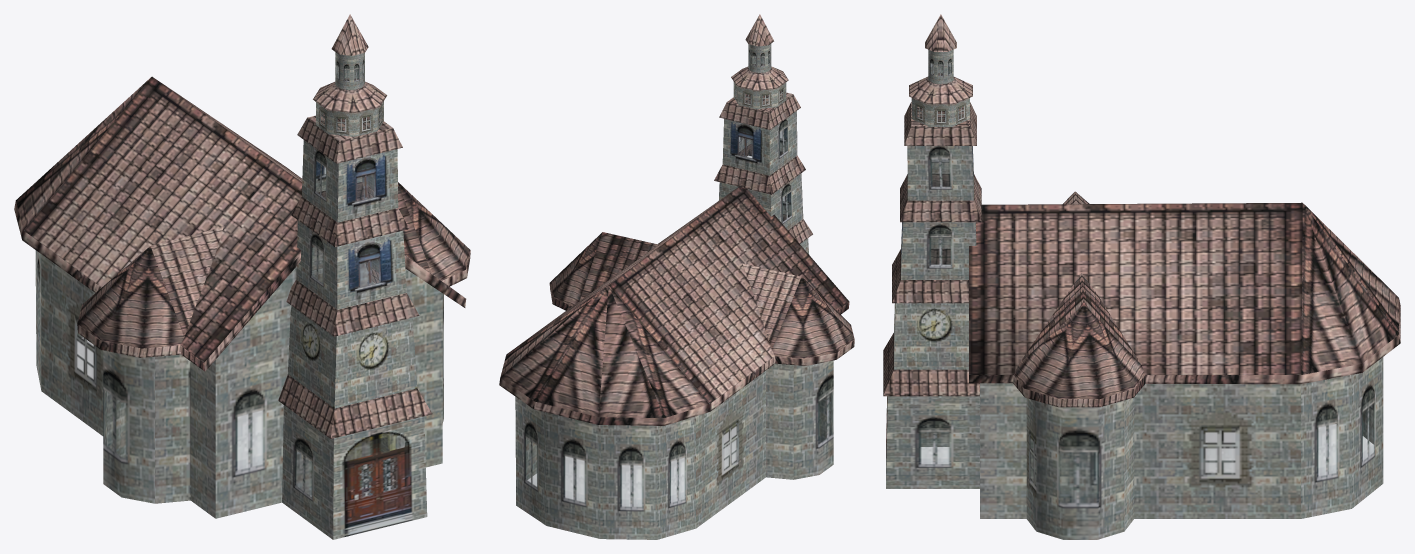
File: Civilian - Civilian Building - German Town Hall - CBChurch01.glb
3 renders of one model, left to right at view 1: azimuth 30°, elevation 25°; view 2: azimuth 150°, elevation 25°; view 3: azimuth 270°, elevation 25°, orthographic. The views are drawn at different scales.
Visible parts, largest first — view 1: CBCHURCH01; view 2: CBCHURCH01; view 3: CBCHURCH01.
Part boxes in pixels (x1,y1,x2,y2): CBCHURCH01: (14,14,470,539); CBCHURCH01: (499,14,854,539); CBCHURCH01: (883,14,1400,539).
Size of the model in its own units: 77.44 by 98.42 by 102.
Materials: 1 (1 with a texture image).
